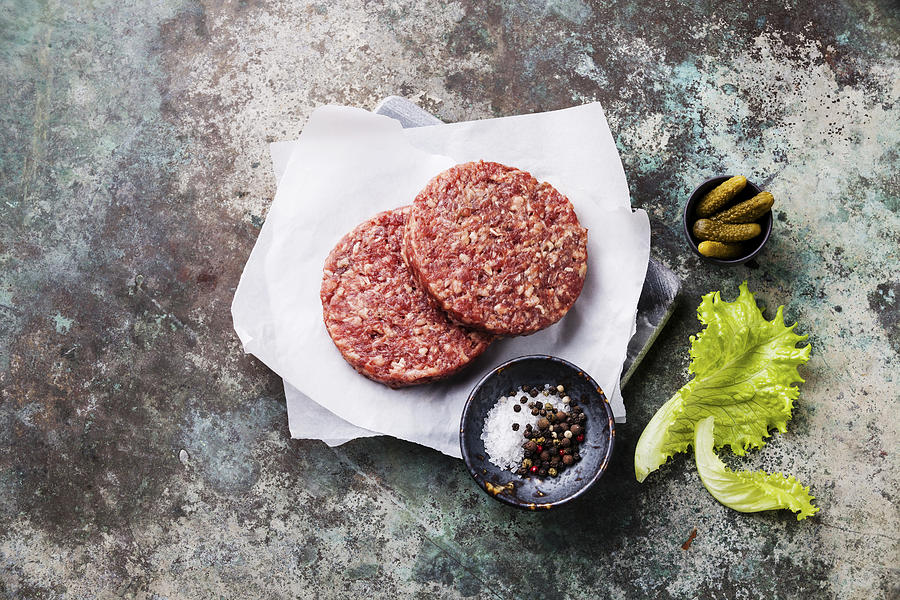ground_beef: (324, 168, 592, 374)
